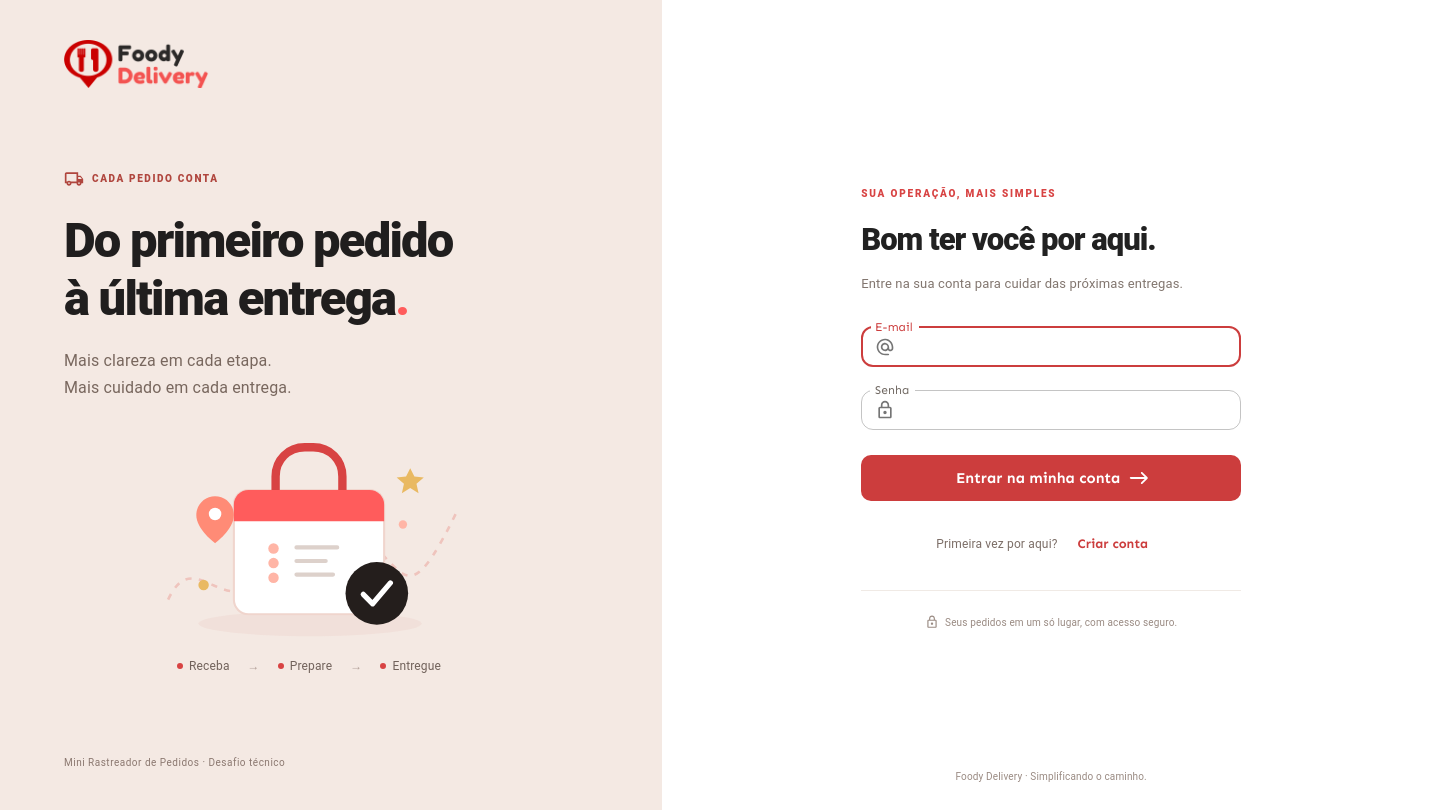
Test case: autenticação › valida campos antes de enviar credenciais
This screenshot has width=1440, height=810.
Click the button "Entrar na minha conta" at (1051, 478), box [861,455,1241,501]
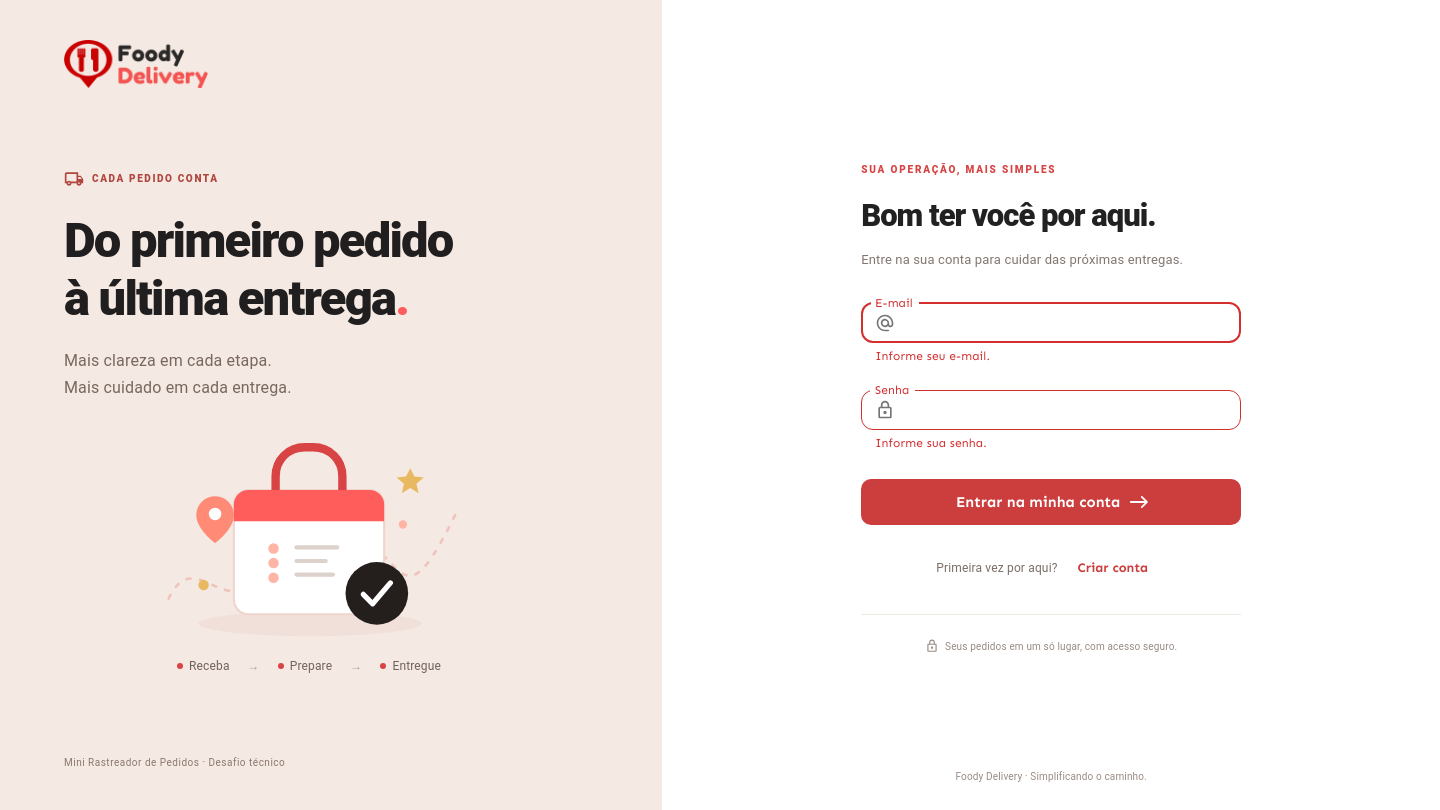
expect the text "Informe seu e-mail." is shown: met, box [875,349,990,363]
